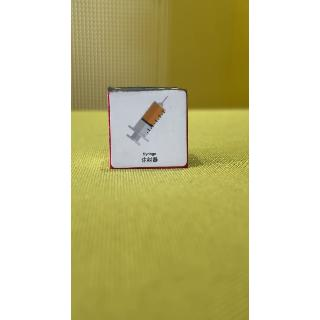Syringe: (110, 89, 189, 169)
